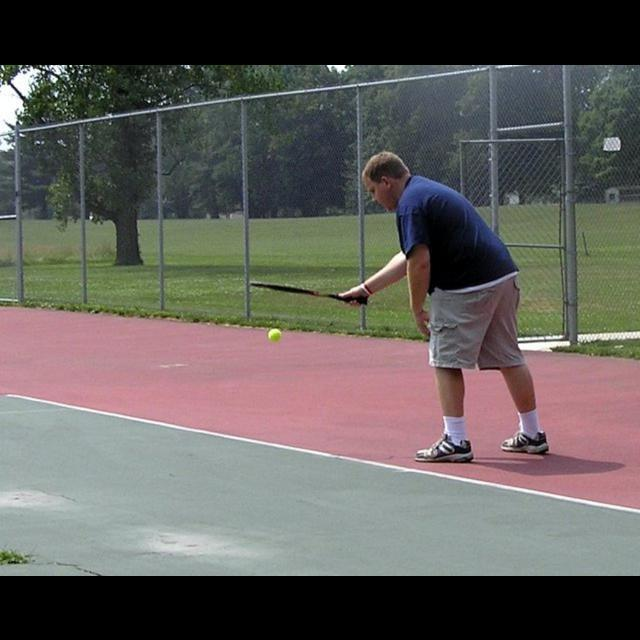tennis-ball: (267, 327, 281, 342)
